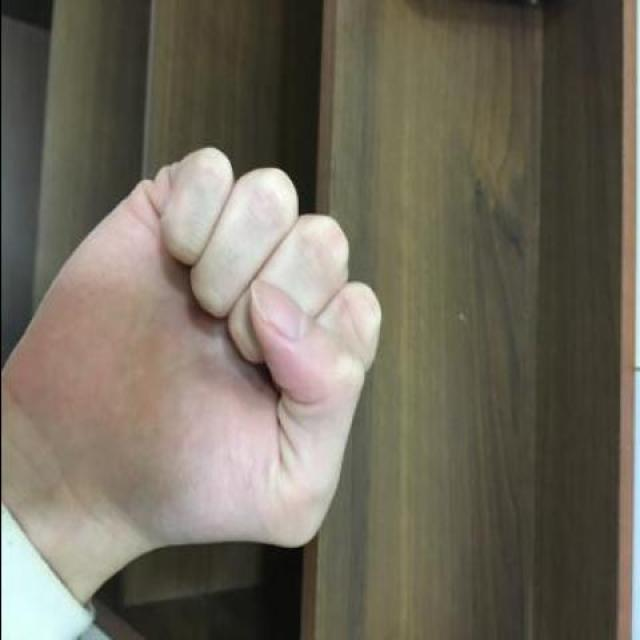Closed Hand: (32, 90, 389, 570)
